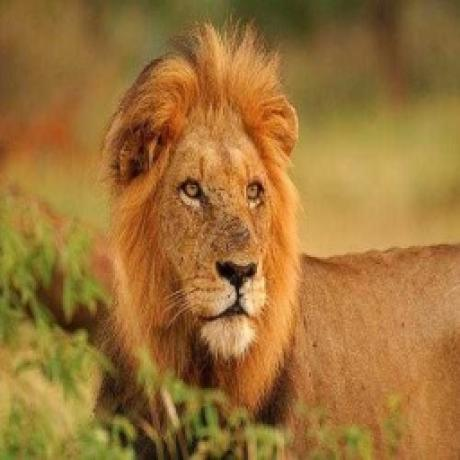Lion: (104, 23, 460, 460)
